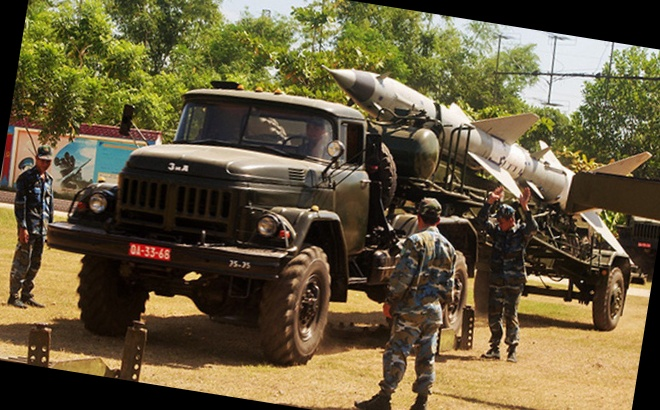plate: (125, 240, 172, 268)
